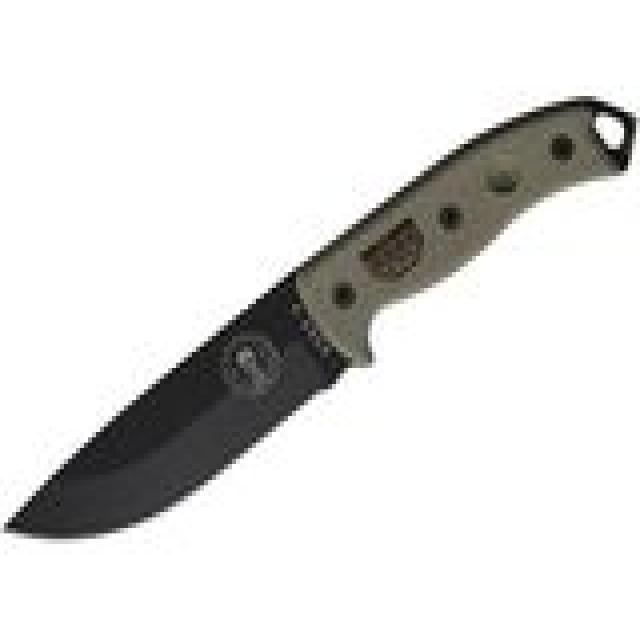Knife: (5, 89, 636, 548)
